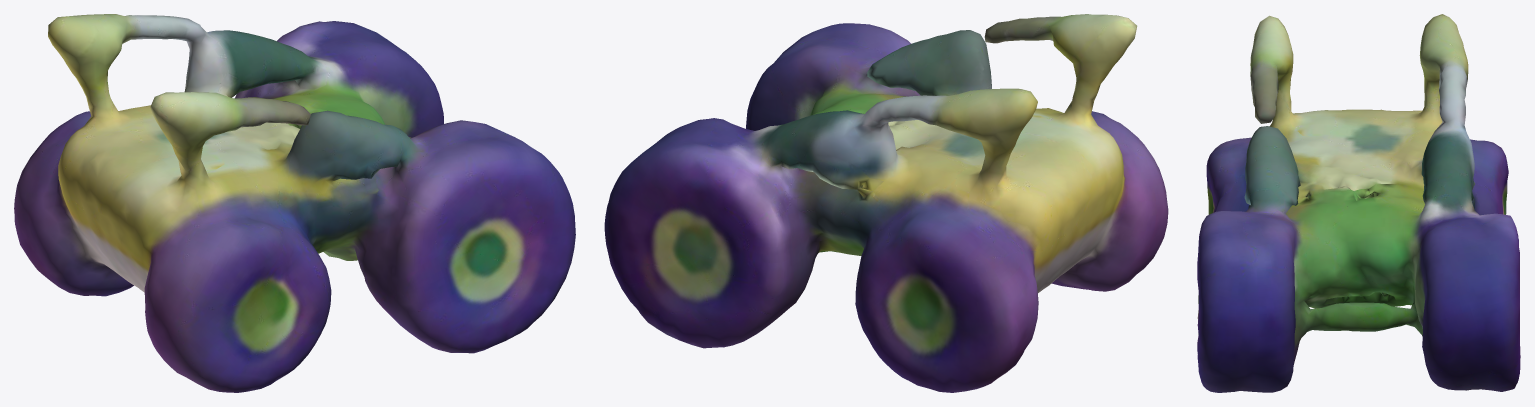
The model's file is kids_toy_0426200452_preview.fbx.
3 renders of one model, left to right at view 1: azimuth 30°, elevation 25°; view 2: azimuth 150°, elevation 25°; view 3: azimuth 270°, elevation 25°, orthographic. The views are drawn at different scales.
Parts seen in each view (by area): view 1: Mesh1; view 2: Mesh1; view 3: Mesh1.
Part boxes in pixels (bbox=[...]): Mesh1: bbox=[14, 14, 575, 392]; Mesh1: bbox=[604, 14, 1168, 392]; Mesh1: bbox=[1197, 14, 1520, 392].
Size of the model in its own units: 120 by 85.71 by 99.23.
1 material, 1 textured.
